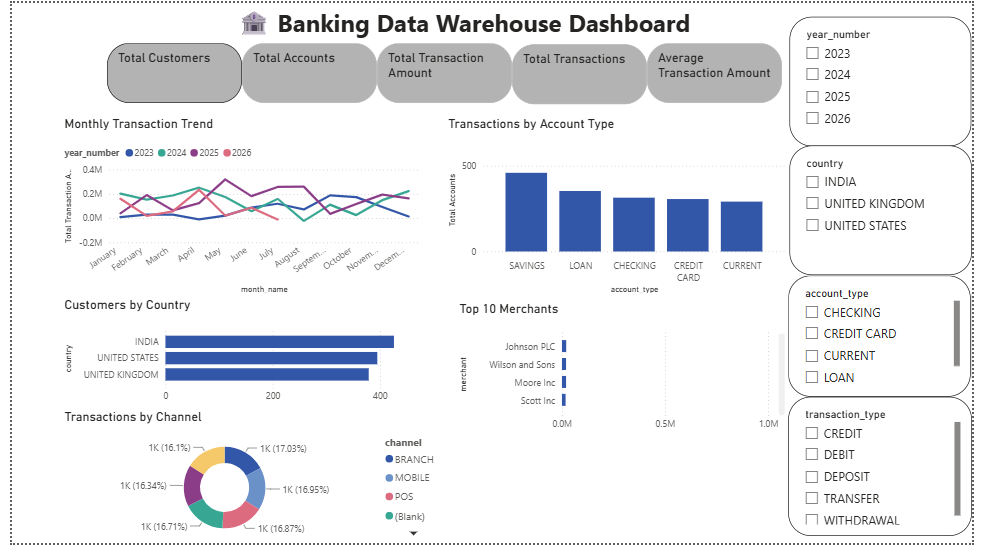

What the dashboard file says about the page in this screenshot:
{"tool":"powerbi","page":{"name":"Executive Dashboard","canvas":[1280,720],"ordinal":0},"visuals":[{"type":"kpi","fields":{"Indicator":["gold dim_accounts.Average Transaction Amount"]},"box":[846.2,53.8,180,80],"z":0},{"type":"kpi","fields":{"Goal":["gold dim_accounts.Total Transaction Amount"]},"box":[486.7,53.8,180,80],"z":1000},{"type":"kpi","fields":{"Indicator":["gold dim_accounts.Total Accounts"]},"box":[306.9,53.8,180,80],"z":2000},{"type":"kpi","fields":{"Indicator":["gold dim_accounts.Total Transactions"]},"box":[666.4,55,180,80],"z":3000},{"type":"kpi","fields":{"Indicator":["gold dim_accounts.Total Customers"]},"box":[127.2,53.8,180,80],"z":4000},{"type":"lineChart","title":"Monthly Transaction Trend","fields":{"Category":["gold dim_date.month_name"],"Series":["gold dim_date.year_number"],"Y":["gold dim_accounts.Total Transaction Amount"]},"box":[64.8,149.2,483,242.1],"z":5000},{"type":"clusteredColumnChart","title":"Transactions by Account Type","fields":{"Category":["gold dim_accounts.account_type"],"Y":["gold dim_accounts.Total Accounts"]},"box":[577.2,149.2,459.8,242.1],"z":6000},{"type":"donutChart","title":"Transactions by Channel","fields":{"Category":["gold fact_transactions.channel"],"Y":["gold dim_accounts.Total Transactions"]},"box":[64.8,541.7,512.4,178.5],"z":7000},{"type":"textbox","box":[116.2,0,972.2,53.8],"z":8000},{"type":"clusteredBarChart","title":"Customers by Country","fields":{"Category":["gold dim_customers.country"],"Y":["gold dim_accounts.Total Customers"]},"box":[64.8,391.3,512.4,150.4],"z":9000},{"type":"clusteredBarChart","title":"Top 10 Merchants","fields":{"Category":["gold fact_transactions.merchant"],"Y":["gold dim_accounts.Total Transaction Amount"]},"box":[591.9,397.4,443.9,182.2],"z":10000},{"type":"slicer","fields":{"Values":["gold dim_date.year_number"]},"box":[1037,18.3,242.1,172.4],"z":11000},{"type":"slicer","fields":{"Values":["gold dim_accounts.account_type"]},"box":[1035.7,363.2,243.3,161.4],"z":11001},{"type":"slicer","fields":{"Values":["gold fact_transactions.transaction_type"]},"box":[1035.7,524.6,244.6,185.9],"z":11002},{"type":"slicer","fields":{"Values":["gold dim_customers.country"]},"box":[1037,190.8,243.3,172.4],"z":11003},{"type":"textbox","box":[564.9,670.1,461,50.1],"z":11004}]}

Visuals, with their boxes in screenshot pixels (x1, y1, x2, y2), scaled from the page's 1280x720 canvas onto the 995x556 screenshot:
kpi - gold dim_accounts.Average Transaction Amount: x1=658 y1=42 x2=798 y2=103
kpi - gold dim_accounts.Total Transaction Amount: x1=378 y1=42 x2=518 y2=103
kpi - gold dim_accounts.Total Accounts: x1=239 y1=42 x2=378 y2=103
kpi - gold dim_accounts.Total Transactions: x1=518 y1=42 x2=658 y2=104
kpi - gold dim_accounts.Total Customers: x1=99 y1=42 x2=239 y2=103
"Monthly Transaction Trend" lineChart: x1=50 y1=115 x2=426 y2=302
"Transactions by Account Type" clusteredColumnChart: x1=449 y1=115 x2=806 y2=302
"Transactions by Channel" donutChart: x1=50 y1=418 x2=449 y2=555
textbox: x1=90 y1=0 x2=846 y2=42
"Customers by Country" clusteredBarChart: x1=50 y1=302 x2=449 y2=418
"Top 10 Merchants" clusteredBarChart: x1=460 y1=307 x2=805 y2=448
slicer - gold dim_date.year_number: x1=806 y1=14 x2=994 y2=147
slicer - gold dim_accounts.account_type: x1=805 y1=280 x2=994 y2=405
slicer - gold fact_transactions.transaction_type: x1=805 y1=405 x2=994 y2=549
slicer - gold dim_customers.country: x1=806 y1=147 x2=994 y2=280
textbox: x1=439 y1=517 x2=797 y2=555
